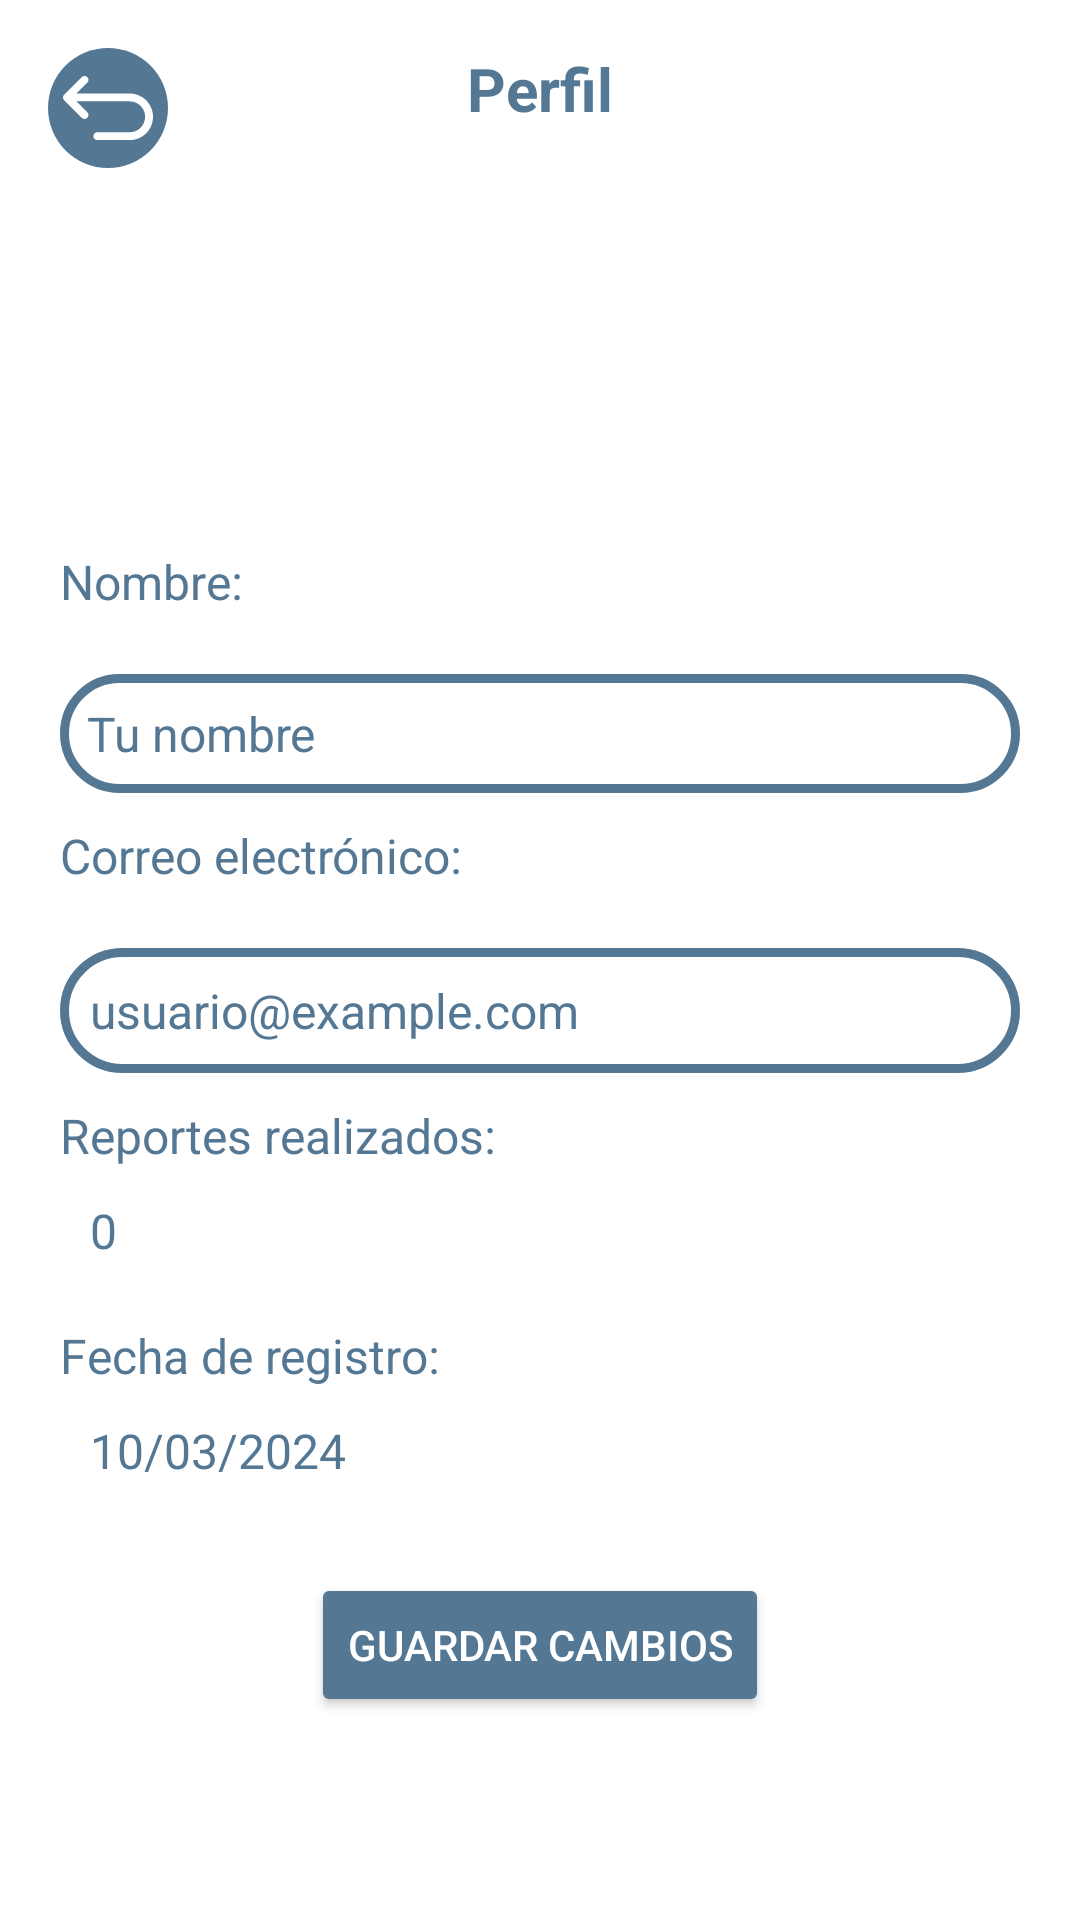

Icon bounding boxes for this 1080px x 1920px phone screenshot, format (x1, y1, x2, y2):
Regresar: (48, 48, 168, 168)
